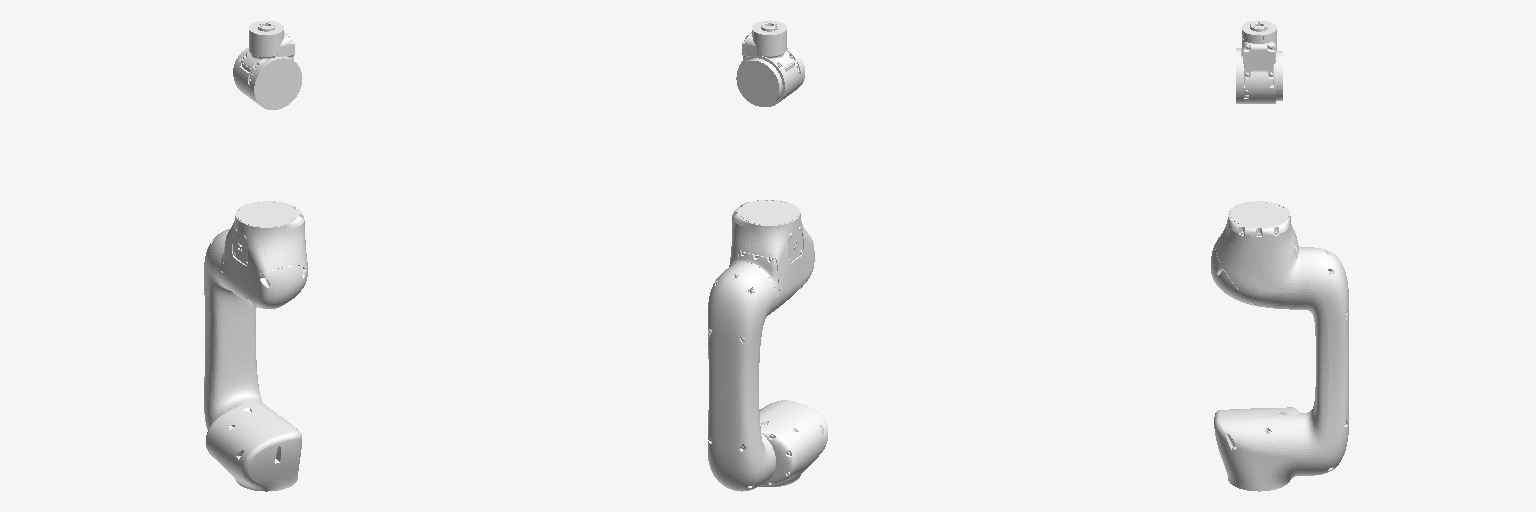
robot.urdf — rv5as:
<?xml version="1.0" ?>
<robot name="rv5as">
    <material name="white">
            <color rgba="1.0 1.0 1.0 1.0"/>
    </material>
    <joint name="Mate1" type="fixed">
        <origin xyz="0 0 0" rpy="0 0 0" />
        <parent link="world" />
        <child link="rv5as_base" />
    </joint>
    <joint name="rv5as_hand_flange-to-default_tcp" type="fixed">
        <origin xyz="0 0 0" rpy="0 -0 0" />
        <parent link="rv5as_hand_flange" />
        <child link="rv5as_default_tcp" />
    </joint>
    <joint name="rv5as_joint_1" type="revolute">
        <axis xyz="0 0 1" />
        <limit effort="1" velocity="2.16421" lower="-4.18879" upper="4.18879" />
        <origin xyz="0 0 0" rpy="0 0 0" />         
        <parent link="rv5as_base" />
        <child link="rv5as_shoulder" />
    </joint>
    <joint name="rv5as_joint_2" type="revolute">
        <origin xyz="0 0 0.254" rpy="0 0 0" />    
        <parent link="rv5as_shoulder" />
        <child link="rv5as_upper_arm" />
        <axis xyz="0 1 0" />
        <limit effort="1" velocity="2.16421" lower="-2.58309" upper="2.58309" />
    </joint>
    <joint name="rv5as_joint_3" type="revolute">
        <axis xyz="0 1 0" />
        <limit effort="1" velocity="2.16421" lower="-2.61799" upper="2.61799" />
        <origin xyz="0 0 0.41" rpy="0 0 0" />
        <parent link="rv5as_upper_arm" />
        <child link="rv5as_elbow" />
    </joint>
    <joint name="rv5as_joint_4" type="revolute">
        <axis xyz="0 0 1" />
        <limit effort="1" velocity="3.4383" lower="-3.49066" upper="3.49066" />
        <origin xyz="0 0 0" rpy="0 0 0" />   
        <parent link="rv5as_elbow" />
        <child link="rv5as_forearm" />
    </joint>
    <joint name="rv5as_joint_5" type="revolute">
        <axis xyz="0 1 0" />
        <limit effort="1" velocity="6.21337" lower="-2.0944" upper="2.0944" />
        <origin xyz="0 0 0.5" rpy="0 0 0" />    
        <parent link="rv5as_forearm" />
        <child link="rv5as_wrist" />
    </joint>
    <joint name="rv5as_joint_6" type="revolute">
        <axis xyz="0 0 1" />
        <limit effort="1" velocity="6.28318" lower="-3.49066" upper="3.49066" />
        <origin xyz="0 0 0.125" rpy="0 0 0" />   
        <parent link="rv5as_wrist" />
        <child link="rv5as_hand_flange" />
    </joint>
    <link name="rv5as_base">
        <visual>
            <material name="white"/>
            <origin xyz="0 0 0" rpy="0 0 0" />
            <geometry>
                <mesh filename="package://melfa_description/meshes/rv5as/base.STL" scale="1 1 1" />
            </geometry>
        </visual>
        <collision>
            <origin xyz="0 0 0" rpy="0 0 0" />
            <geometry>
                <mesh filename="package://melfa_description/meshes/rv5as/base.STL" scale="1 1 1" />
            </geometry>
        </collision>
    </link>
    <link name="rv5as_default_tcp" />
    <link name="rv5as_shoulder">
        <visual>
            <material name="white"/>
            <origin xyz="0 0 0" rpy="0 0 0" />
            <geometry>
                <mesh filename="package://melfa_description/meshes/rv5as/shoulder.STL" scale="1 1 1" />
            </geometry>
        </visual>
        <collision>
            <origin xyz="0 0 0" rpy="0 0 0" />
            <geometry>
                <mesh filename="package://melfa_description/meshes/rv5as/shoulder.STL" scale="1 1 1" />
            </geometry>
        </collision>
    </link>
    <link name="rv5as_upper_arm">
        <visual>
            <material name="white"/>
            <origin xyz="0 0 0" rpy="0 0 0" />
            <geometry>
                <mesh filename="package://melfa_description/meshes/rv5as/upper_arm.STL" scale="1 1 1" />
            </geometry>
        </visual>
        <collision>
            <origin xyz="0 0 0" rpy="0 0 0" />
            <geometry>
                <mesh filename="package://melfa_description/meshes/rv5as/upper_arm.STL" scale="1 1 1" />
            </geometry>
        </collision>
    </link>
    <link name="rv5as_elbow">
        <visual>
            <material name="white"/>
            <origin xyz="0 0 0" rpy="0 0 0" />
            <geometry>
                <mesh filename="package://melfa_description/meshes/rv5as/elbow.STL" scale="1 1 1" />
            </geometry>
        </visual>
        <collision>
            <origin xyz="0 0 0" rpy="0 0 0" />
            <geometry>
                <mesh filename="package://melfa_description/meshes/rv5as/elbow.STL" scale="1 1 1" />
            </geometry>
        </collision>
    </link>
    <link name="rv5as_forearm">
        <visual>
            <material name="white"/>
            <origin xyz="0 0 0" rpy="0 0 0" />
            <geometry>
                <mesh filename="package://melfa_description/meshes/rv5as/forearm.STL" scale="1 1 1" />
            </geometry>
        </visual>
        <collision>
            <origin xyz="0 0 0" rpy="0 0 0" />
            <geometry>
                <mesh filename="package://melfa_description/meshes/rv5as/forearm.STL" scale="1 1 1" />
            </geometry>
        </collision>
    </link>
    <link name="rv5as_wrist">
        <visual>
            <material name="white"/>
            <origin xyz="0 0 0" rpy="0 0 0" />
            <geometry>
                <mesh filename="package://melfa_description/meshes/rv5as/wrist.STL" scale="1 1 1" />
            </geometry>
        </visual>
        <collision>
            <origin xyz="0 0 0" rpy="0 0 0" />
            <geometry>
                <mesh filename="package://melfa_description/meshes/rv5as/wrist.STL" scale="1 1 1" />
            </geometry>
        </collision>
    </link>
    <link name="rv5as_hand_flange">
        <visual>
            <material name="white"/>
            <origin xyz="0 0 0" rpy="0 0 0" />
            <geometry>
                <mesh filename="package://melfa_description/meshes/rv5as/hand_flange.STL" scale="1 1 1" />
            </geometry>
        </visual>
        <collision>
            <origin xyz="0 0 0" rpy="0 0 0" />
            <geometry>
                <mesh filename="package://melfa_description/meshes/rv5as/hand_flange.STL" scale="1 1 1" />
            </geometry>
        </collision>
    </link>
    <link name="world" />
</robot>

--- What the picture shows (computed from the rendered views, not written in the file) ---
Views: 3 orthographic renders of the robot side by side, from view 1: azimuth 30°, elevation 25°; view 2: azimuth 150°, elevation 25°; view 3: azimuth 270°, elevation 25°.
Model rv5as with 9 links and 8 joints (6 revolute, 2 fixed), rooted at world, posed every joint at zero.
Links seen in each view (by area): view 1: rv5as_elbow, rv5as_upper_arm, rv5as_shoulder, rv5as_wrist, rv5as_hand_flange; view 2: rv5as_upper_arm, rv5as_elbow, rv5as_shoulder, rv5as_wrist, rv5as_hand_flange; view 3: rv5as_upper_arm, rv5as_elbow, rv5as_shoulder, rv5as_wrist, rv5as_hand_flange.
Boxes of the visible links, box(x1,y1,x2,y2) form: rv5as_elbow: box(219, 201, 307, 308); rv5as_upper_arm: box(204, 228, 262, 429); rv5as_shoulder: box(206, 401, 301, 491); rv5as_wrist: box(233, 32, 302, 109); rv5as_hand_flange: box(249, 20, 283, 39); rv5as_upper_arm: box(708, 262, 775, 491); rv5as_elbow: box(729, 200, 814, 314); rv5as_shoulder: box(759, 400, 827, 486); rv5as_wrist: box(736, 32, 804, 106); rv5as_hand_flange: box(752, 20, 786, 39); rv5as_upper_arm: box(1300, 247, 1348, 475); rv5as_elbow: box(1211, 201, 1299, 309); rv5as_shoulder: box(1214, 407, 1299, 491); rv5as_wrist: box(1236, 34, 1282, 103); rv5as_hand_flange: box(1242, 20, 1276, 39).
Bounding box of the posed robot: 0.1954 × 0.31 × 1.12 m (x, y, z).
Meshes: 7 distinct files referenced, 5 mesh visuals loaded (5 binary STL); not drawn: 2 (reference not matched to a file when rendering).
